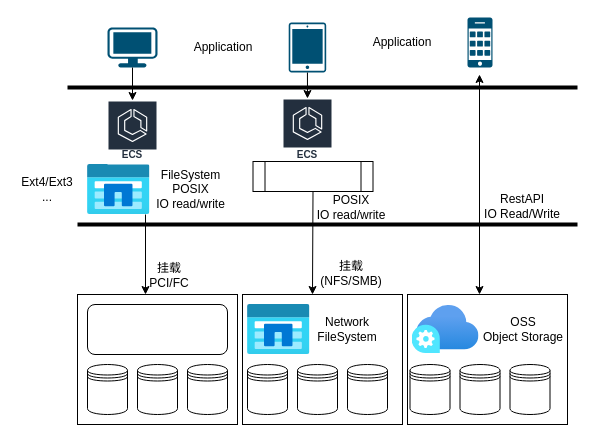
This 596x442 diagram has some shape labels left out. Here are the shapes that lost their labels. From the top down, the centre of each, then its label:
At (x=312, y=176): "NAS Client".
At (x=157, y=329): "(EBS: Block Manager)".
